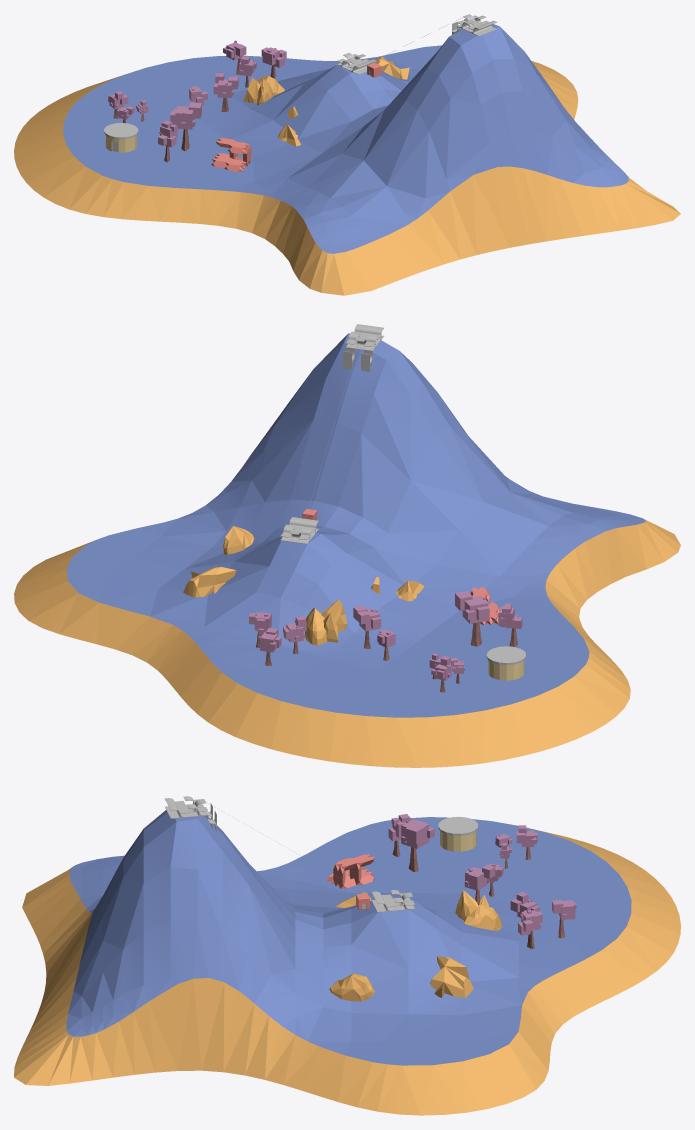
3 views of the same model, one above another, from view 1: azimuth 30°, elevation 25°; view 2: azimuth 150°, elevation 25°; view 3: azimuth 270°, elevation 25° (orthographic). The views are drawn at different scales.
Visible parts, largest first — view 1: Grass, Rocks, Leafs, P2, P1_Blocks, Trunks, P0_Roof; view 2: Grass, Rocks, Leafs, P2, Trunks; view 3: Grass, Rocks, Leafs, P2, P1_Blocks, Trunks, P0_Roof, P0_Walls.
Part boxes in pixels (x1=…): Grass: x1=63, y1=24, x2=628, y2=253; Rocks: x1=14, y1=56, x2=680, y2=295; Leafs: x1=108, y1=40, x2=286, y2=147; P2: x1=337, y1=14, x2=497, y2=74; P1_Blocks: x1=211, y1=138, x2=251, y2=171; Trunks: x1=113, y1=56, x2=275, y2=162; P0_Roof: x1=104, y1=123, x2=138, y2=151; Grass: x1=66, y1=333, x2=645, y2=717; Rocks: x1=14, y1=519, x2=680, y2=767; Leafs: x1=249, y1=591, x2=522, y2=680; P2: x1=280, y1=324, x2=383, y2=544; Trunks: x1=256, y1=622, x2=517, y2=692; Grass: x1=66, y1=810, x2=631, y2=1065; Rocks: x1=14, y1=827, x2=680, y2=1115; Leafs: x1=388, y1=814, x2=576, y2=935; P2: x1=164, y1=796, x2=414, y2=912; P1_Blocks: x1=326, y1=854, x2=374, y2=888; Trunks: x1=392, y1=840, x2=565, y2=948; P0_Roof: x1=438, y1=816, x2=478, y2=835; P0_Walls: x1=440, y1=831, x2=476, y2=851.
Size of the model in its own units: 114 by 37.35 by 110.
